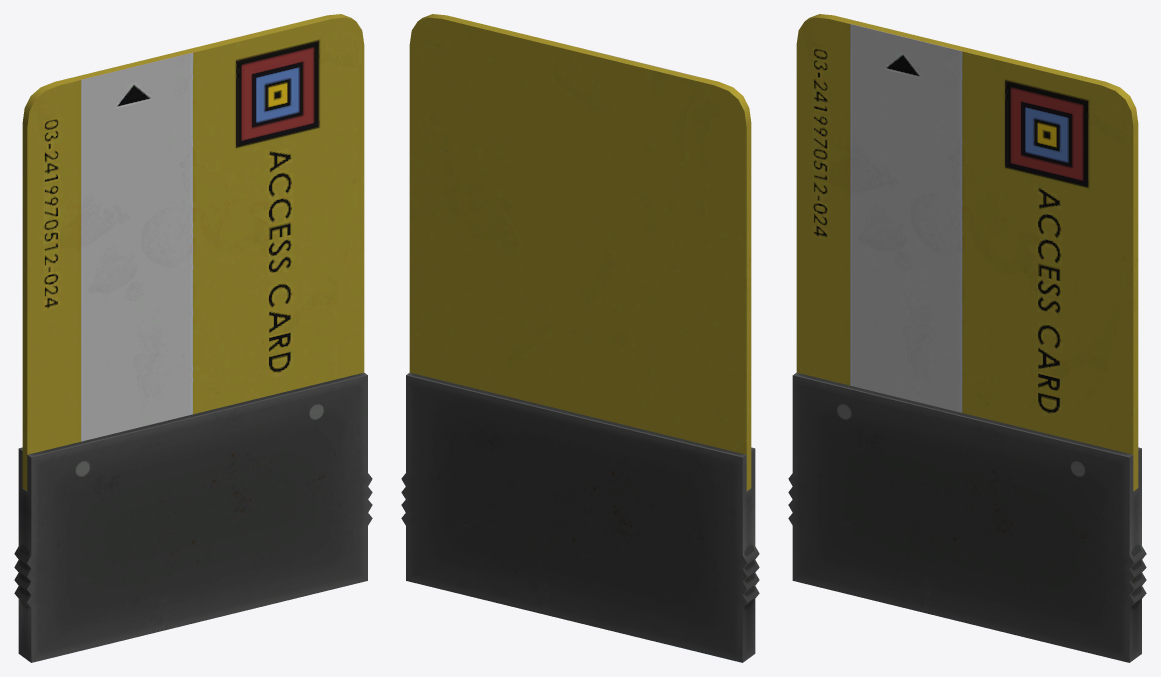
Rendered from keycard.fbx.
3 views of the same model, side by side, from view 1: azimuth 30°, elevation 25°; view 2: azimuth 150°, elevation 25°; view 3: azimuth 330°, elevation 25° (orthographic).
Parts seen in each view (by area): view 1: SM_KeyCard_A_LOD0; view 2: SM_KeyCard_A_LOD0; view 3: SM_KeyCard_A_LOD0.
Part boxes in pixels (bbox=[...]): SM_KeyCard_A_LOD0: bbox=[14, 14, 372, 662]; SM_KeyCard_A_LOD0: bbox=[401, 14, 759, 662]; SM_KeyCard_A_LOD0: bbox=[788, 14, 1146, 662].
Size of the model in its own units: 18.9 by 29.61 by 1.19.
